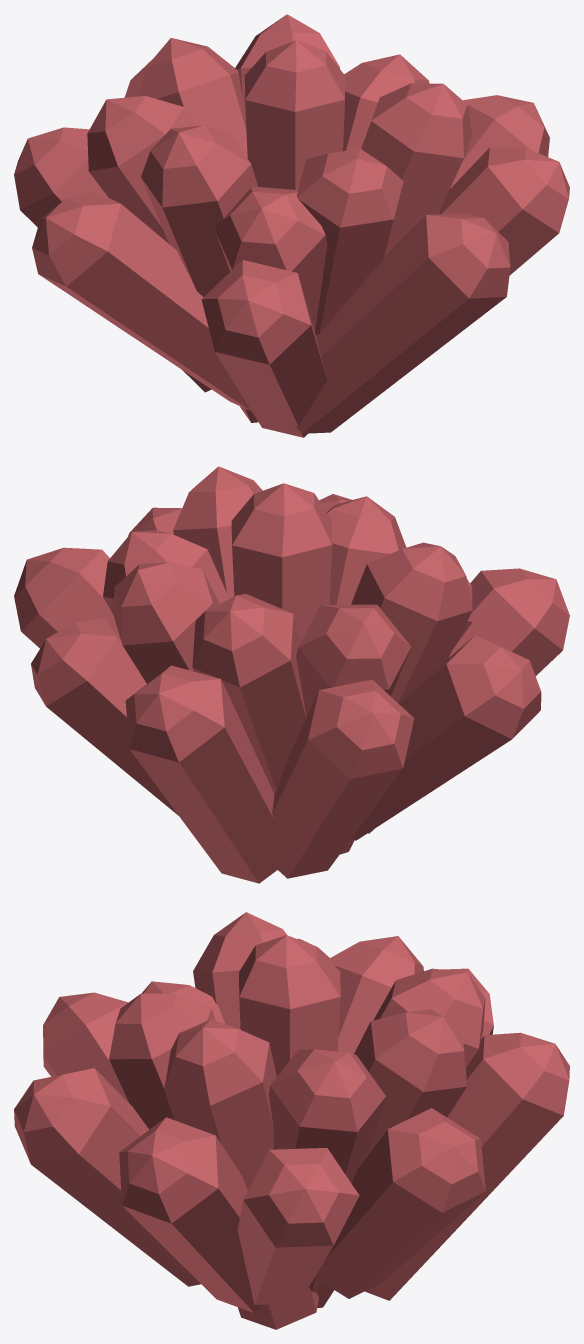
The model's file is Coral_027.glb.
3 views of the same model, one above another, from view 1: azimuth 30°, elevation 25°; view 2: azimuth 150°, elevation 25°; view 3: azimuth 270°, elevation 25° (orthographic).
Visible parts, largest first — view 1: Coral_027; view 2: Coral_027; view 3: Coral_027.
Part boxes in pixels (<box>): Coral_027: <box>14,14,569,437</box>; Coral_027: <box>14,466,569,883</box>; Coral_027: <box>14,912,569,1329</box>.
Bounding box in the file's own units: 0.6164 × 0.4235 × 0.5776.
Materials: 1 (1 with a texture image).
